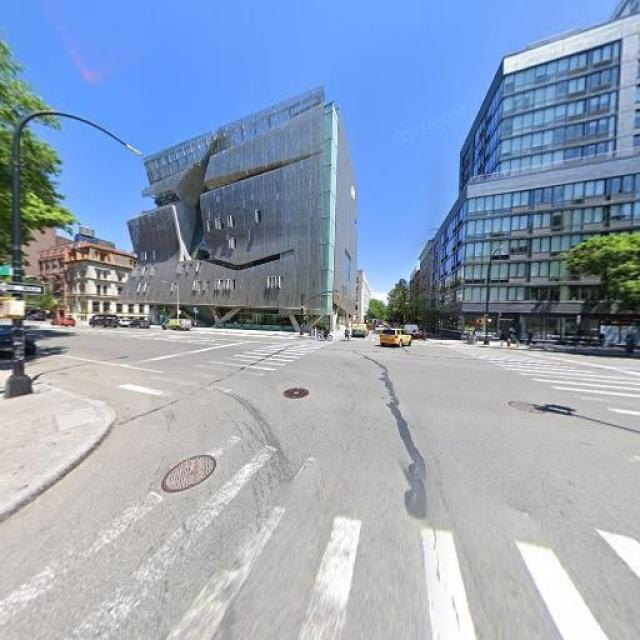Building: (150, 94, 358, 333), (432, 150, 640, 342)
